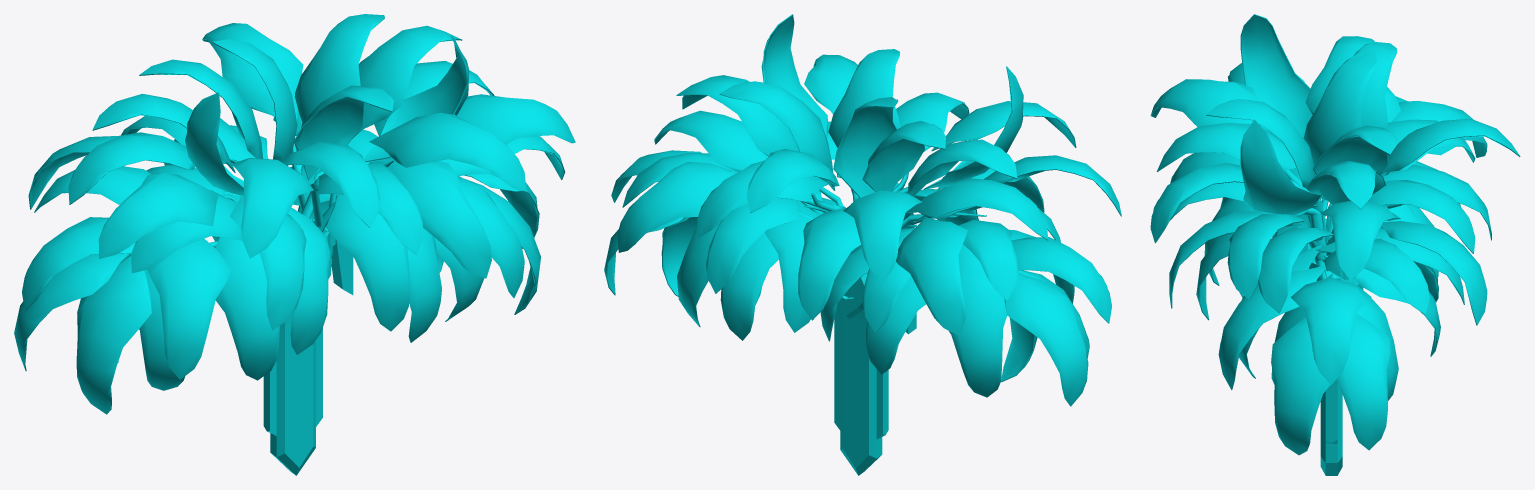
The model's file is FloatingPlantLarge.fbx.
The picture shows the model from 3 angles, left to right: view 1: azimuth 30°, elevation 25°; view 2: azimuth 150°, elevation 25°; view 3: azimuth 270°, elevation 25°; orthographic projection. The views are drawn at different scales.
Parts seen in each view (by area): view 1: Leaves, Holder, Branches; view 2: Leaves, Holder, Branches; view 3: Leaves, Holder, Branches.
Boxes of the visible parts, <box> form: Leaves: <box>14,14,575,414</box>; Holder: <box>263,219,353,475</box>; Branches: <box>209,144,393,247</box>; Leaves: <box>604,14,1121,406</box>; Holder: <box>834,249,916,475</box>; Branches: <box>798,173,986,248</box>; Leaves: <box>1150,14,1520,455</box>; Holder: <box>1301,219,1363,475</box>; Branches: <box>1284,170,1402,279</box>.
Bounding box in the file's own units: 71.61 × 56.04 × 45.92.
